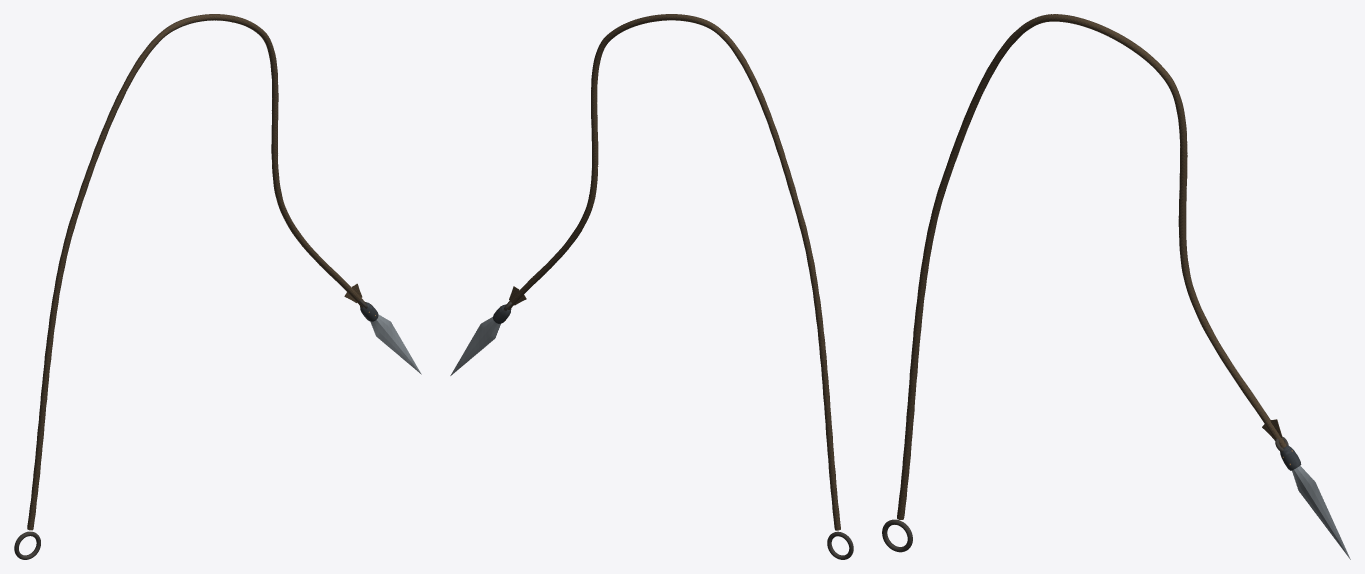
The model's file is rope-dart.glb.
3 renders of one model, left to right at view 1: azimuth 30°, elevation 25°; view 2: azimuth 150°, elevation 25°; view 3: azimuth 330°, elevation 25°, orthographic. The views are drawn at different scales.
Visible parts, largest first — view 1: cloth / canvas webbing, steel / forged blade steel; view 2: cloth / canvas webbing, steel / forged blade steel; view 3: cloth / canvas webbing, steel / forged blade steel, iron / hammer-scaled wrought iron.
Boxes of the visible parts, x1=… form: cloth / canvas webbing: x1=27, y1=14, x2=365, y2=530; steel / forged blade steel: x1=370, y1=314, x2=421, y2=374; cloth / canvas webbing: x1=505, y1=14, x2=840, y2=530; steel / forged blade steel: x1=450, y1=317, x2=500, y2=375; cloth / canvas webbing: x1=897, y1=14, x2=1286, y2=519; steel / forged blade steel: x1=1292, y1=466, x2=1350, y2=559; iron / hammer-scaled wrought iron: x1=882, y1=437, x2=1288, y2=552.
Bounding box in the file's own units: 0.806 × 0.9592 × 0.0393.
Materials: 6 (4 with a texture image).
